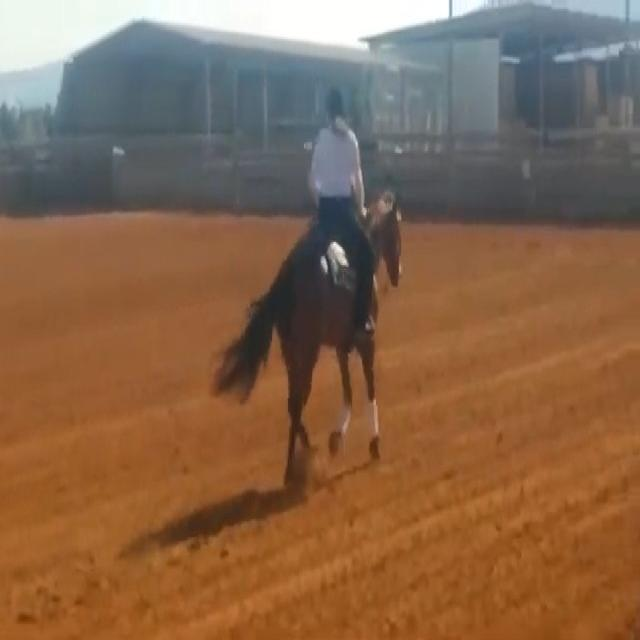horse: (209, 187, 405, 489)
